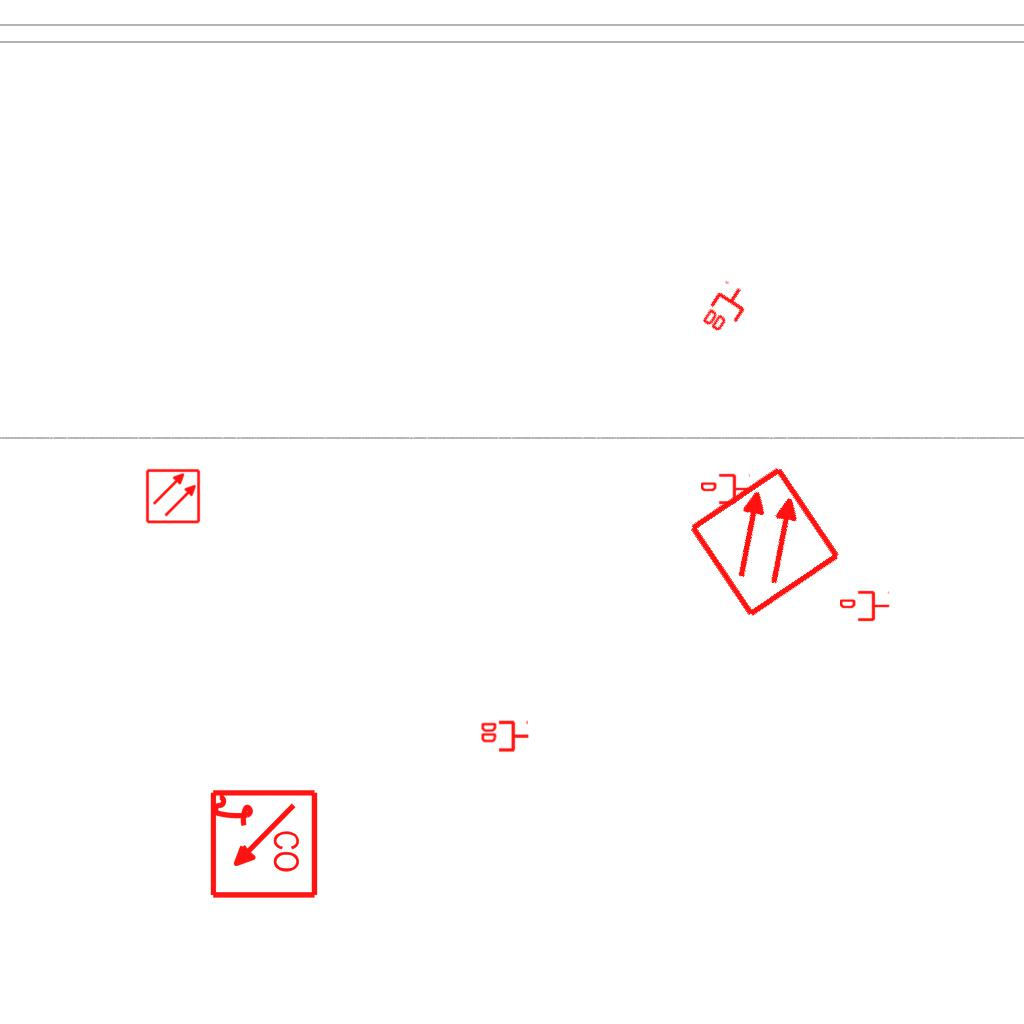Datenanschluss_einfach: (840, 589, 890, 623), (701, 472, 751, 506)
Datenanschluss_zweifach: (698, 278, 756, 341), (479, 720, 530, 754)
RMO_Rauchmelder_optischer: (686, 463, 843, 620), (145, 468, 201, 524)
ROA_Rauchmelder_optisch_mit_Signalgeber_(Sockelsirene): (206, 788, 319, 901)
